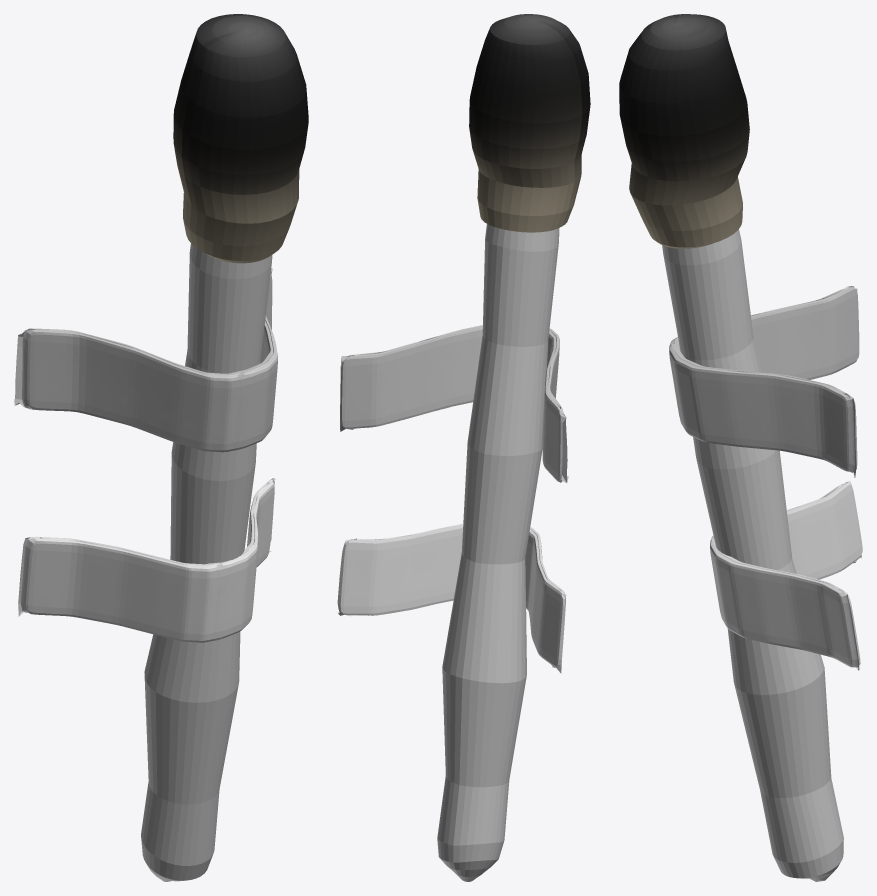
The model's file is TorchModel.fbx.
3 views of the same model, side by side, from view 1: azimuth 30°, elevation 25°; view 2: azimuth 150°, elevation 25°; view 3: azimuth 270°, elevation 25° (orthographic). The views are drawn at different scales.
Parts seen in each view (by area): view 1: Sphere.004, Sphere.005, Cube.009, Cube.010; view 2: Sphere.004, Sphere.005, Cube.009, Cube.010; view 3: Sphere.004, Sphere.005, Cube.009, Cube.010.
Part boxes in pixels (<box>): Sphere.004: <box>141,243,272,881</box>; Sphere.005: <box>173,14,308,263</box>; Cube.009: <box>14,268,277,452</box>; Cube.010: <box>18,478,275,642</box>; Sphere.004: <box>437,224,559,881</box>; Sphere.005: <box>469,14,590,232</box>; Cube.009: <box>340,325,568,482</box>; Cube.010: <box>337,523,566,673</box>; Sphere.004: <box>662,229,843,881</box>; Sphere.005: <box>619,14,749,248</box>; Cube.009: <box>669,286,859,477</box>; Cube.010: <box>710,481,862,670</box>.
Size of the model in its own units: 25.98 by 86.99 by 22.35.
